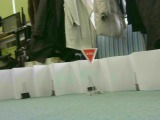stop: (78, 46, 99, 65)
